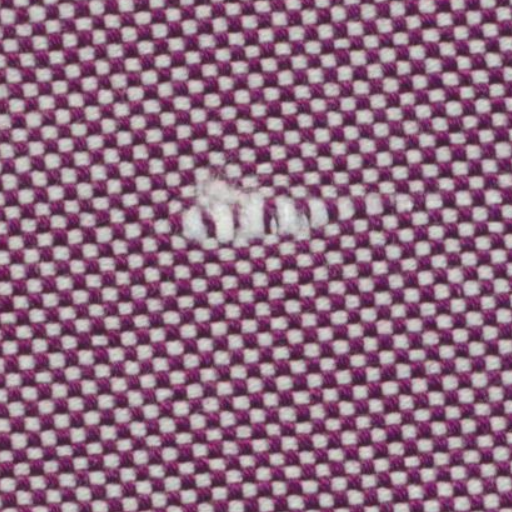DaiSha: (172, 170, 404, 246)
